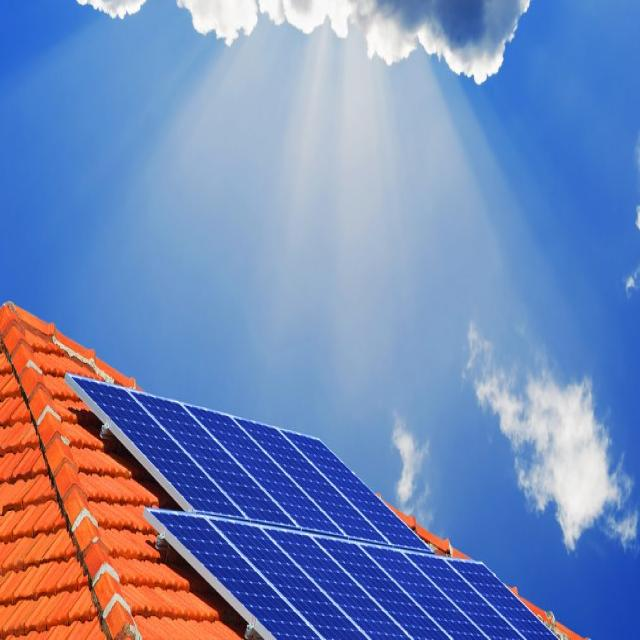clean-solar-panel: (65, 372, 562, 640)
